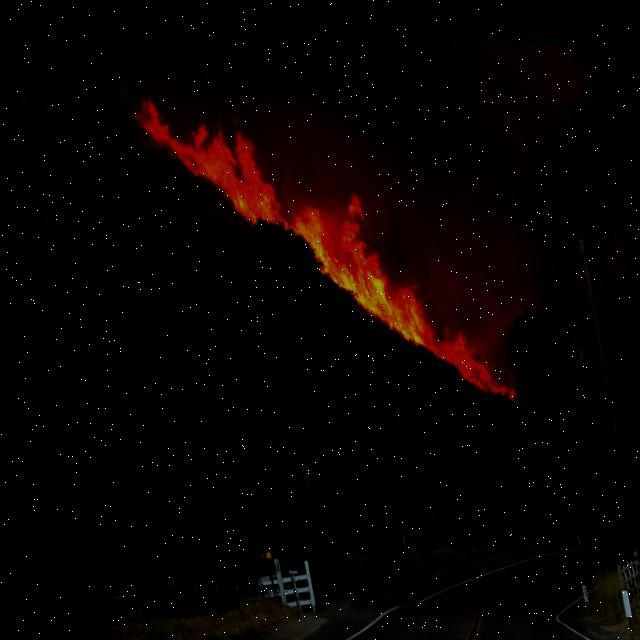Fire: (122, 88, 514, 398)
